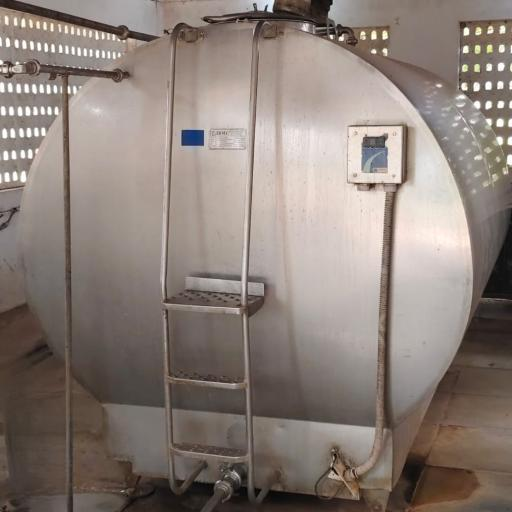silo: (18, 12, 510, 494)
